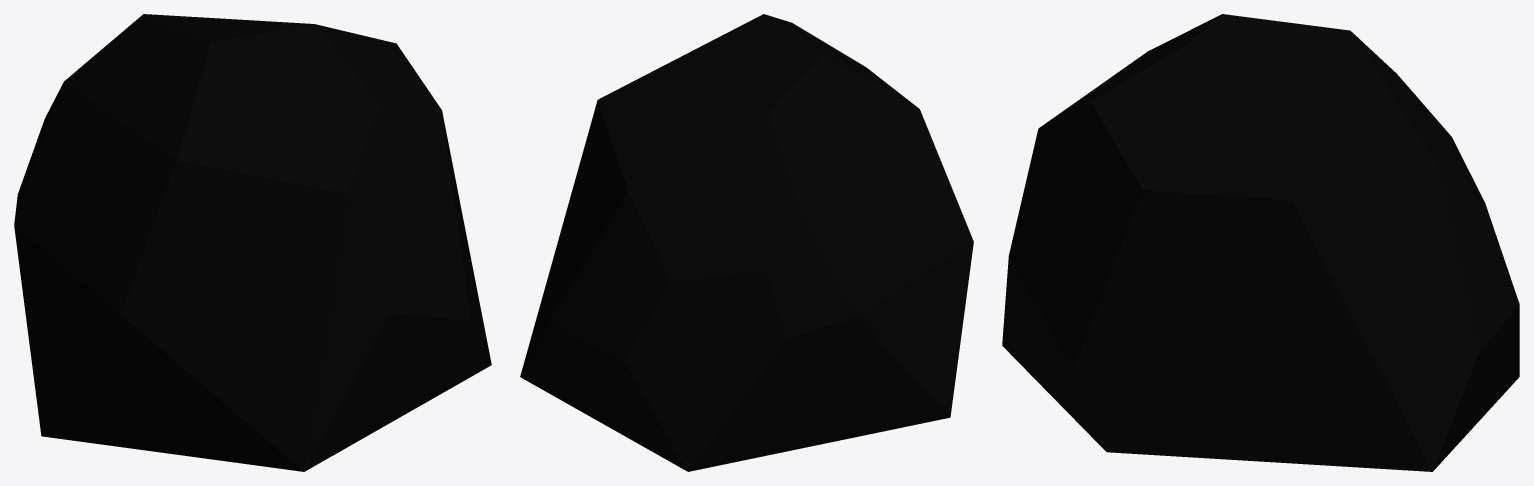
The model's file is Copper Rock 03.fbx.
3 renders of one model, left to right at view 1: azimuth 30°, elevation 25°; view 2: azimuth 150°, elevation 25°; view 3: azimuth 270°, elevation 25°, orthographic. The views are drawn at different scales.
Visible parts, largest first — view 1: Copper Rock 03; view 2: Copper Rock 03; view 3: Copper Rock 03.
Part boxes in pixels (x1,y1,x2,y2): Copper Rock 03: (14, 14, 491, 471); Copper Rock 03: (520, 14, 973, 471); Copper Rock 03: (1002, 14, 1519, 471).
Bounding box in the file's own units: 142 × 129 × 163.
